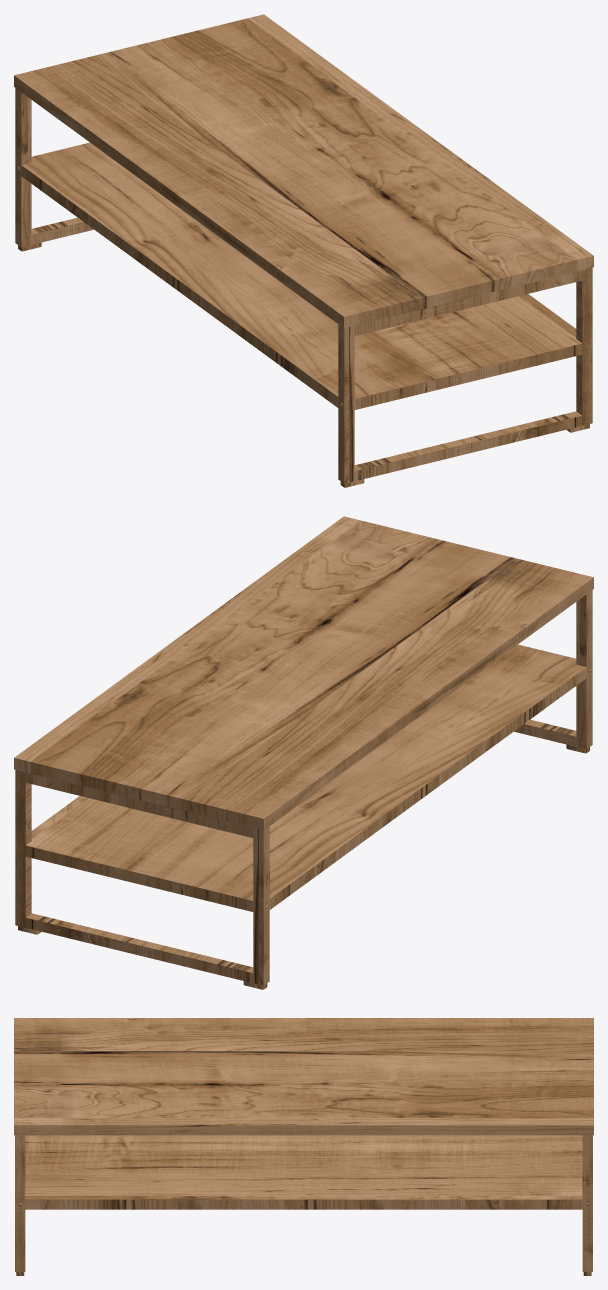
Rendered from Table.obj.
3 renders of one model, top to bottom at view 1: azimuth 30°, elevation 25°; view 2: azimuth 150°, elevation 25°; view 3: azimuth 270°, elevation 25°, orthographic. The views are drawn at different scales.
Visible parts, largest first — view 1: SM_CoffeeTable_14_SM_CoffeeTable; view 2: SM_CoffeeTable_14_SM_CoffeeTable; view 3: SM_CoffeeTable_14_SM_CoffeeTable.
Part boxes in pixels (x1,y1,x2,y2): SM_CoffeeTable_14_SM_CoffeeTable: [14, 14, 593, 487]; SM_CoffeeTable_14_SM_CoffeeTable: [14, 516, 593, 989]; SM_CoffeeTable_14_SM_CoffeeTable: [14, 1018, 593, 1275].
Size of the model in its own units: 0.6999 by 0.4615 by 1.6.
